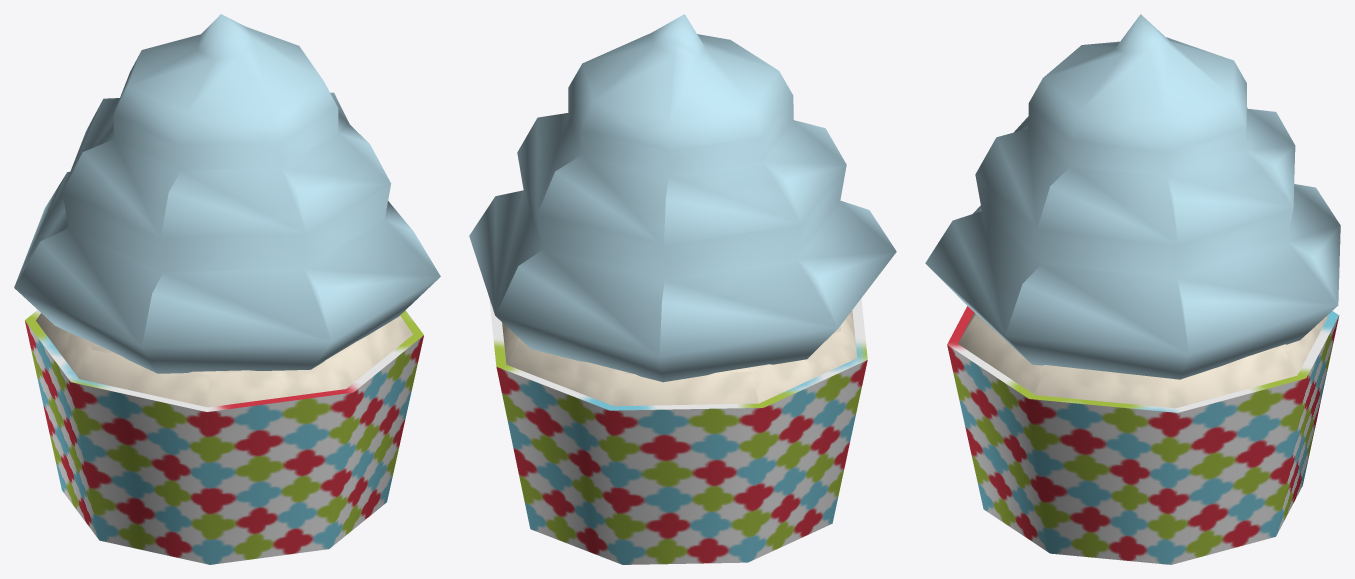
Rendered from Cupcake_A_23.FBX.
3 renders of one model, left to right at view 1: azimuth 30°, elevation 25°; view 2: azimuth 150°, elevation 25°; view 3: azimuth 270°, elevation 25°, orthographic.
Parts seen in each view (by area): view 1: Cupcake; view 2: Cupcake; view 3: Cupcake.
Part boxes in pixels (x1,y1,x2,y2): Cupcake: (14,14,440,564); Cupcake: (469,14,896,564); Cupcake: (925,14,1340,564).
Size of the model in its own units: 34.42 by 43.01 by 33.65.
